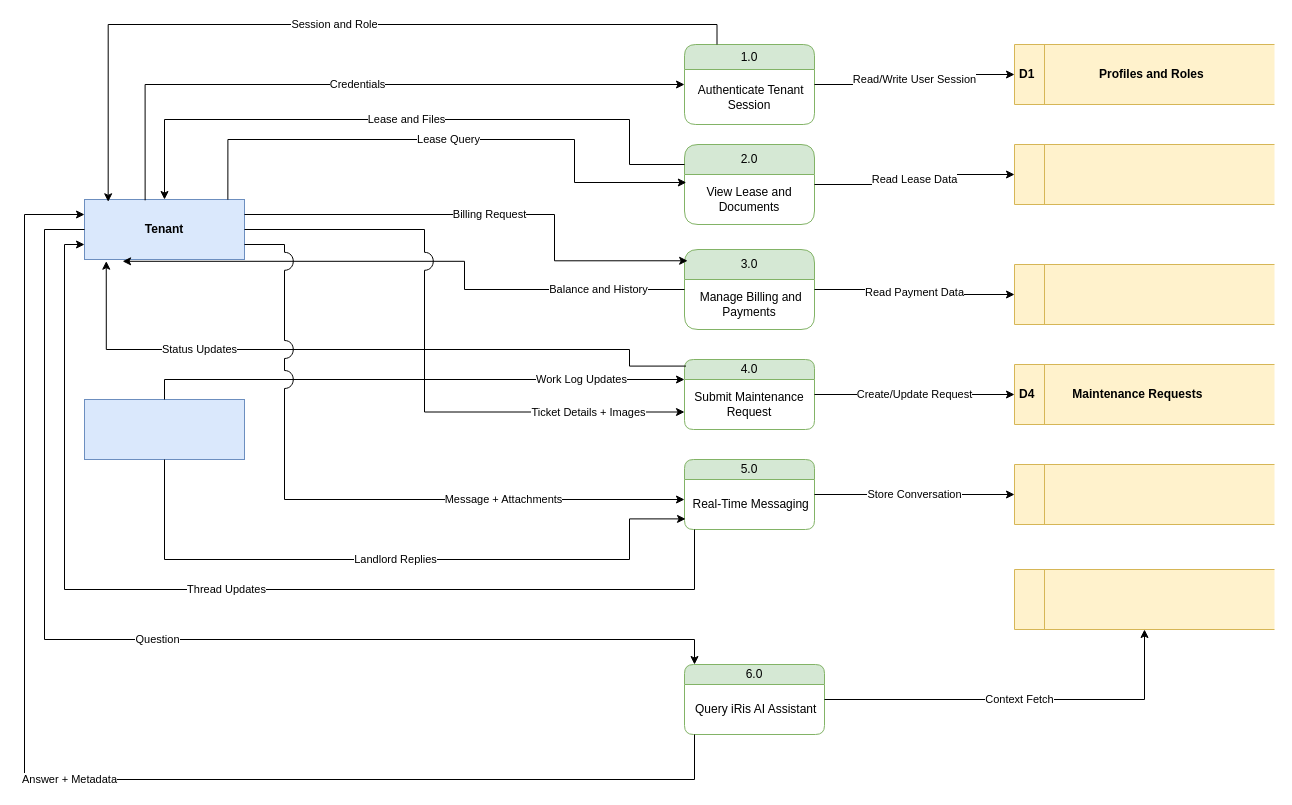
The diagram is 1292 pixels wide and 805 high, and some of its shapes have lost their labels. Here are the shapes that lost their labels. From the top down, the centre of each, then its label:
the point at 1144,174: D2 Lease Records and Document Vault
the point at 1144,294: D3 Billing Ledger and Transactions
the point at 164,429: Landlord
the point at 1144,494: D5 Conversation Threads and Files
the point at 1144,599: D6 Tenant Context (Unit, Lease, Payments)
